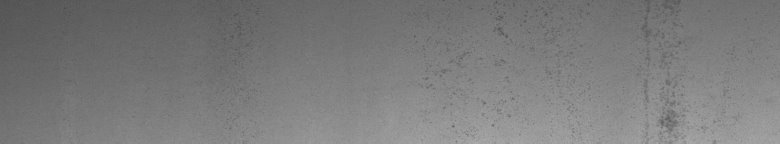ib: (425, 8, 581, 128)
